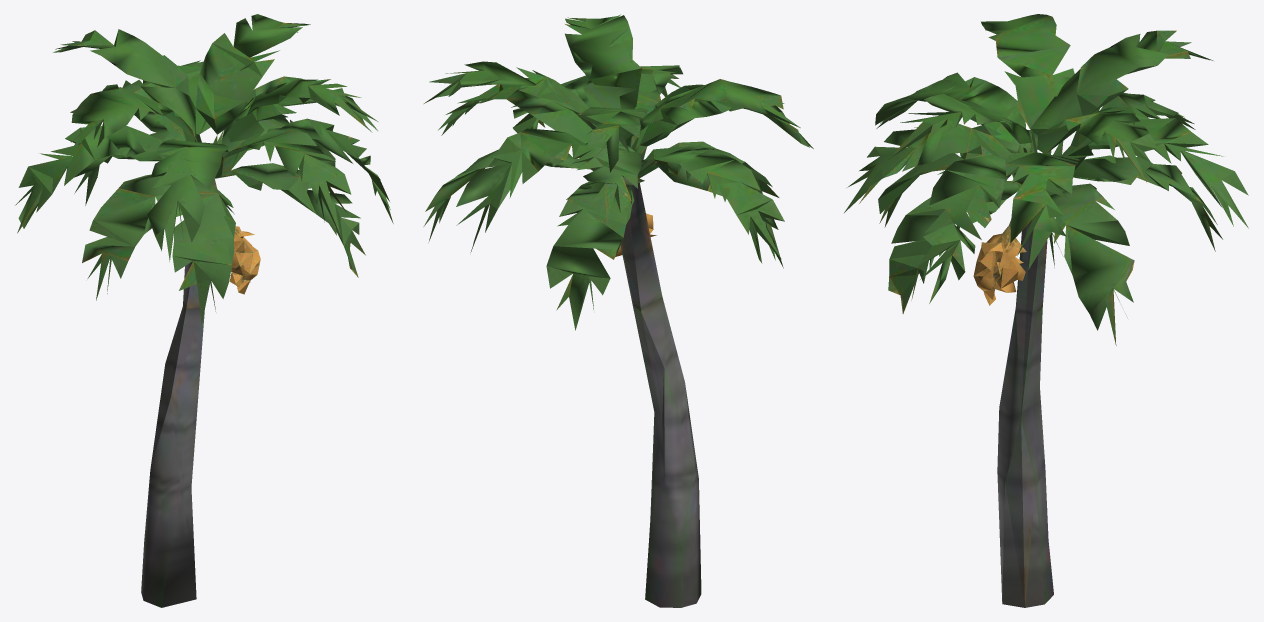
The model's file is palmera.glb.
3 views of the same model, side by side, from view 1: azimuth 30°, elevation 25°; view 2: azimuth 150°, elevation 25°; view 3: azimuth 270°, elevation 25° (orthographic). The views are drawn at different scales.
Visible parts, largest first — view 1: output_unwrapped; view 2: output_unwrapped; view 3: output_unwrapped.
Boxes of the visible parts, <box> form: output_unwrapped: <box>15,14,393,607</box>; output_unwrapped: <box>423,14,813,607</box>; output_unwrapped: <box>844,14,1248,607</box>.
Size of the model in its own units: 1.32 by 1.9 by 1.27.
Materials: 1 (1 with a texture image).
